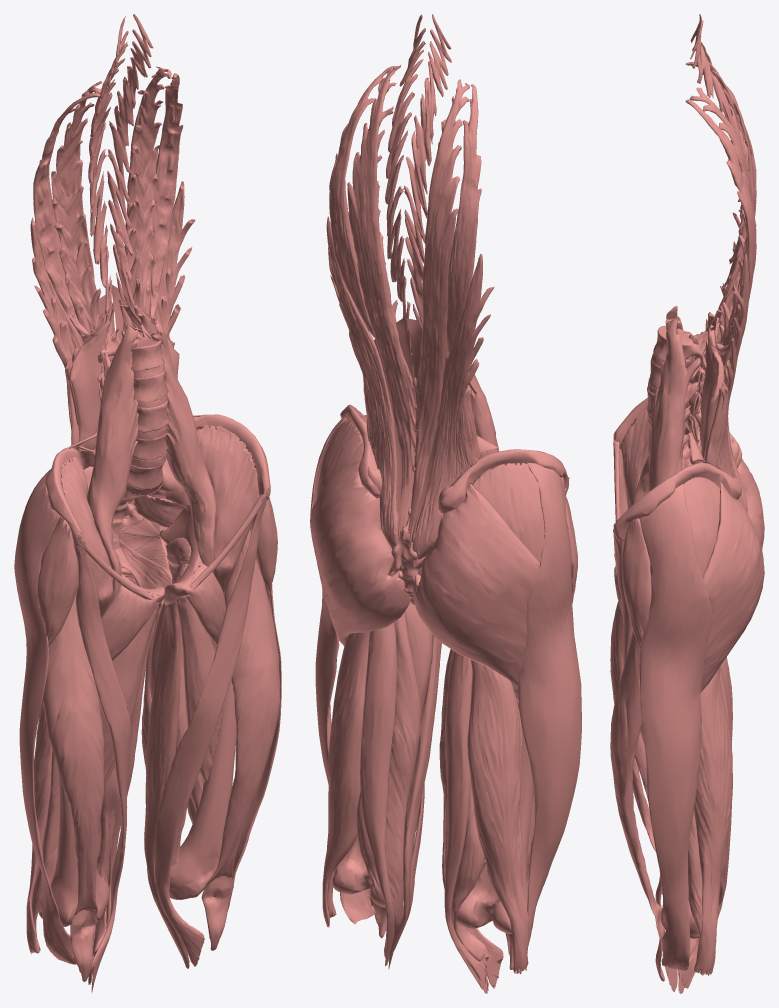
File: pelvis.glb
The picture shows the model from 3 angles, left to right: view 1: azimuth 30°, elevation 25°; view 2: azimuth 150°, elevation 25°; view 3: azimuth 270°, elevation 25°; orthographic projection. The views are drawn at different scales.
Parts seen in each view (by area): view 1: FJ1433, FJ1433M, FJ1434M, X58776, FJ1431, FJ1434, FJ1421M, FJ1535, FJ3259, FJ1535M, FJ1422M, FJ1431M (+37 smaller); view 2: X58776, FJ1418, FJ1395, FJ1418M, FJ1535M, FJ1535, FJ1527, FJ1436M, FJ1395M, FJ1435M, FJ1436, FJ1527M (+21 smaller); view 3: X58777, FJ1395M, FJ1418M, FJ1433M, FJ1431M, FJ1438M, FJ1419M, FJ1527M, FJ3288, FJ1535M, X22879, FJ1528M (+17 smaller).
Part boxes in pixels (bbox=[...]): FJ1433: bbox=[42, 584, 103, 981]; FJ1433M: bbox=[201, 529, 280, 950]; FJ1434M: bbox=[154, 491, 266, 966]; X58776: bbox=[14, 470, 76, 964]; FJ1431: bbox=[87, 324, 138, 616]; FJ1434: bbox=[73, 536, 130, 991]; FJ1421M: bbox=[144, 600, 189, 968]; FJ1535: bbox=[51, 81, 104, 342]; FJ3259: bbox=[169, 592, 236, 899]; FJ1535M: bbox=[121, 66, 171, 340]; FJ1422M: bbox=[196, 425, 259, 593]; FJ1431M: bbox=[150, 318, 215, 572]; X58776: bbox=[518, 462, 581, 946]; FJ1418: bbox=[412, 482, 539, 687]; FJ1395: bbox=[467, 659, 528, 974]; FJ1418M: bbox=[310, 459, 411, 645]; FJ1535M: bbox=[347, 65, 415, 541]; FJ1535: bbox=[408, 79, 469, 545]; FJ1527: bbox=[412, 253, 494, 559]; FJ1436M: bbox=[360, 622, 396, 966]; FJ1395M: bbox=[322, 632, 370, 927]; FJ1435M: bbox=[356, 611, 420, 933]; FJ1436: bbox=[444, 651, 486, 990]; FJ1527M: bbox=[326, 216, 398, 549]; X58777: bbox=[639, 484, 712, 970]; FJ1395M: bbox=[693, 667, 732, 975]; FJ1418M: bbox=[701, 482, 764, 691]; FJ1433M: bbox=[610, 631, 665, 981]; FJ1431M: bbox=[648, 319, 700, 491]; FJ1438M: bbox=[621, 518, 651, 648]; FJ1419M: bbox=[682, 477, 719, 576]; FJ1527M: bbox=[707, 253, 749, 510]; FJ3288: bbox=[614, 462, 741, 567]; FJ1535M: bbox=[689, 87, 754, 473]; X22879: bbox=[690, 20, 749, 343]; FJ1528M: bbox=[685, 99, 756, 355].
Size of the model in its own units: 0.3118 by 1.14 by 0.1664.
